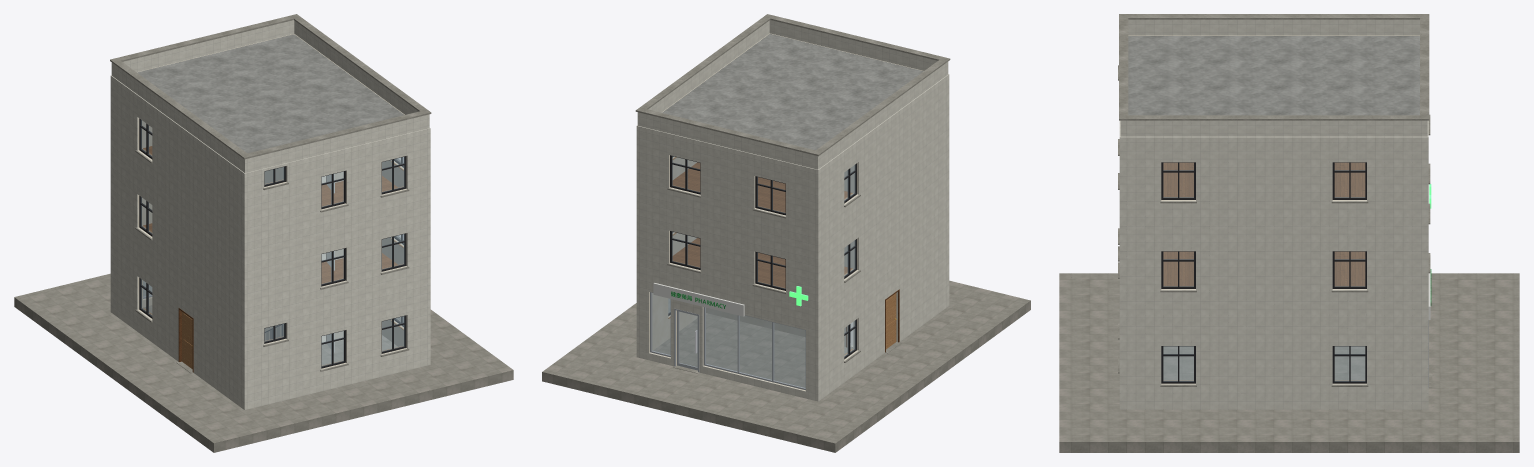
The model's file is b_corner_pharmacy.gltf.
The picture shows the model from 3 angles, left to right: view 1: azimuth 30°, elevation 25°; view 2: azimuth 150°, elevation 25°; view 3: azimuth 270°, elevation 25°; orthographic projection. The views are drawn at different scales.
Parts seen in each view (by area): view 1: S_corner_pharmacy, D_corner_pharmacy_F1_E1_Door0; view 2: S_corner_pharmacy, D_corner_pharmacy_F1_S2_Door0, D_corner_pharmacy_F1_E1_Door0; view 3: S_corner_pharmacy.
Part boxes in pixels (bbox=[...]): S_corner_pharmacy: bbox=[14, 14, 513, 452]; D_corner_pharmacy_F1_E1_Door0: bbox=[182, 312, 192, 368]; S_corner_pharmacy: bbox=[542, 14, 1030, 452]; D_corner_pharmacy_F1_S2_Door0: bbox=[677, 310, 697, 370]; D_corner_pharmacy_F1_E1_Door0: bbox=[886, 293, 896, 349]; S_corner_pharmacy: bbox=[1059, 14, 1519, 452].
Size of the model in its own units: 13 by 10.86 by 15.
19 materials, 9 textured.
